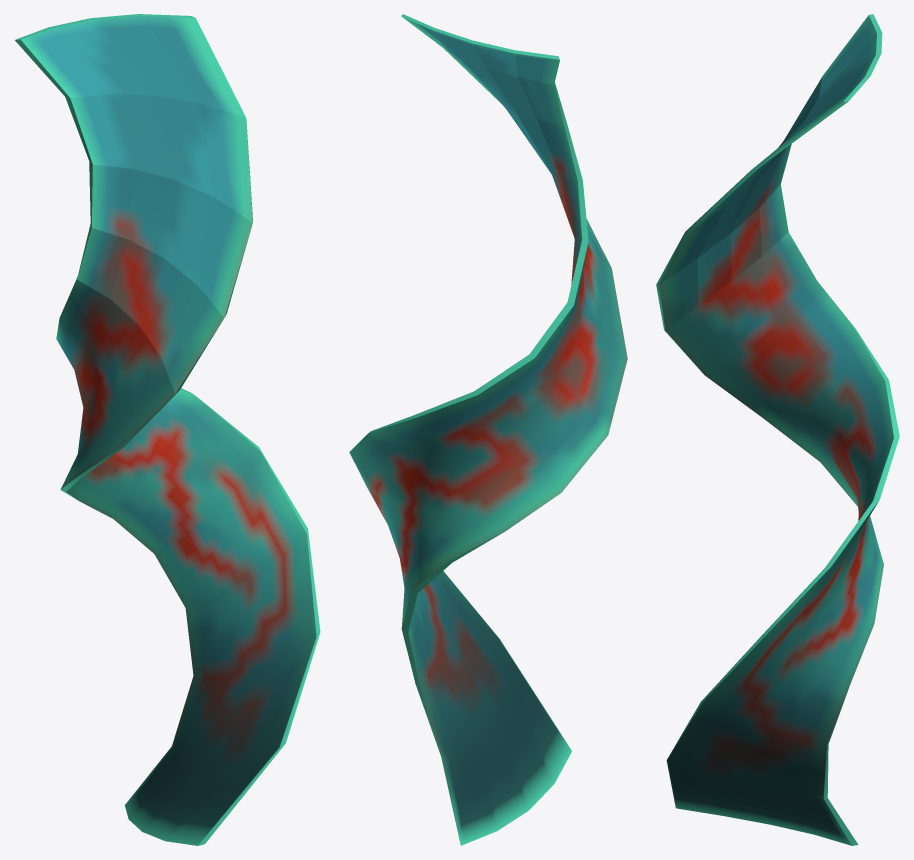
The model's file is TwistedCloth.fbx.
The picture shows the model from 3 angles, left to right: view 1: azimuth 30°, elevation 25°; view 2: azimuth 150°, elevation 25°; view 3: azimuth 270°, elevation 25°; orthographic projection. The views are drawn at different scales.
Visible parts, largest first — view 1: polySurface7; view 2: polySurface7; view 3: polySurface7.
Part boxes in pixels (x1,y1,x2,y2): polySurface7: (15, 14, 320, 845); polySurface7: (349, 14, 627, 845); polySurface7: (656, 14, 899, 845).
Size of the model in its own units: 1.84 by 5.78 by 1.63.
Materials: 1 (1 with a texture image).
